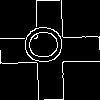O: (25, 25, 71, 64)
